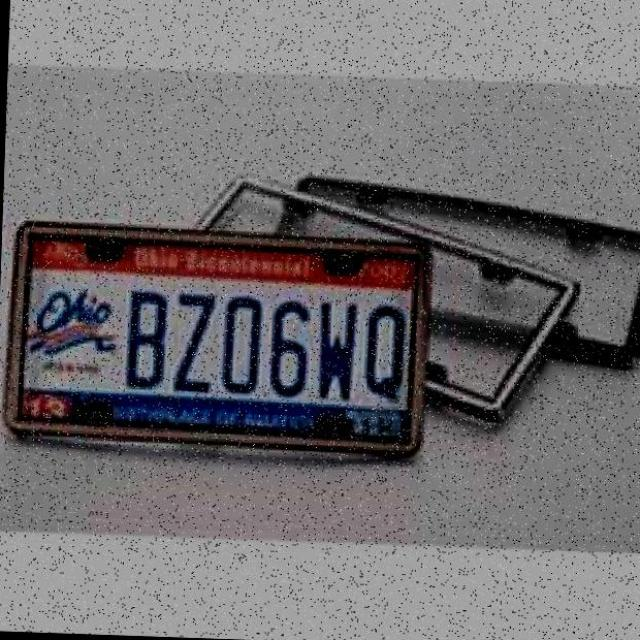LicensePlate: (29, 256, 414, 402)
